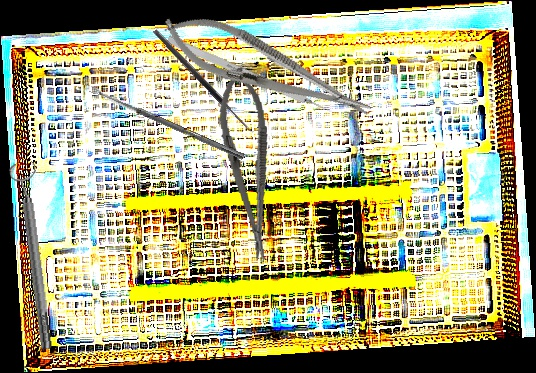Fixation Ring: (7, 160, 61, 352)
Hook Surgical: (166, 34, 338, 119), (152, 23, 260, 136)
Needle Holder: (153, 0, 380, 137), (213, 65, 283, 263)
Surgical Spoon: (88, 85, 246, 160)
